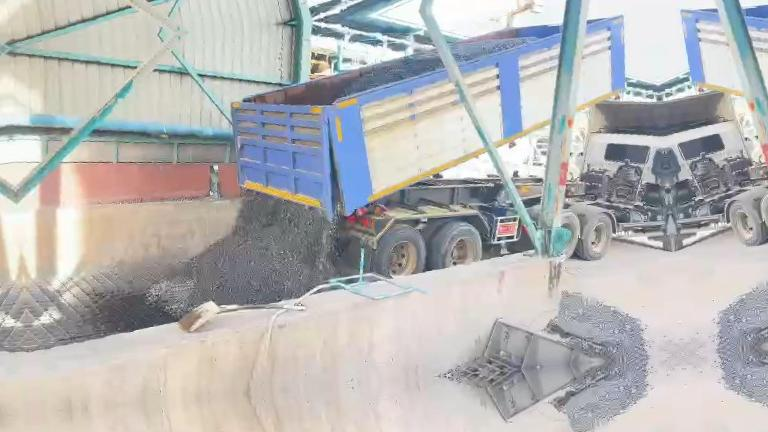gravel: (152, 191, 337, 316), (556, 291, 648, 360), (341, 50, 442, 96), (450, 37, 537, 62)
